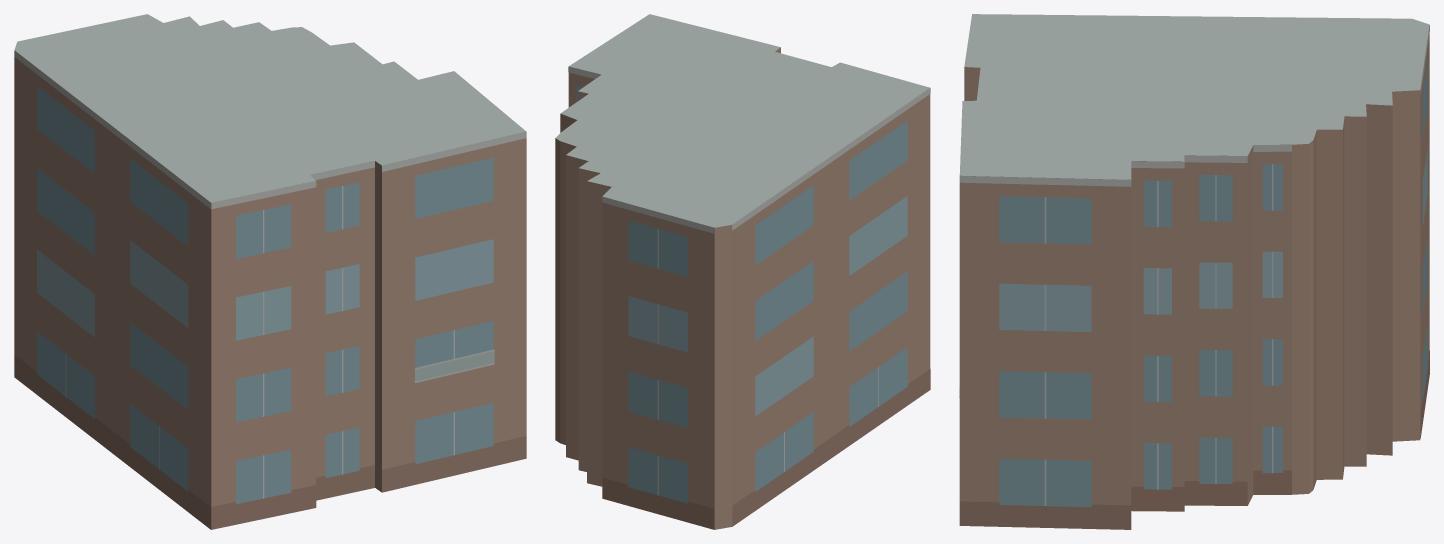
Rendered from survey-upis-32656655.glb.
The picture shows the model from 3 angles, left to right: view 1: azimuth 30°, elevation 25°; view 2: azimuth 150°, elevation 25°; view 3: azimuth 270°, elevation 25°; orthographic projection. The views are drawn at different scales.
Visible parts, largest first — view 1: survey-upis-32656655.tmp; view 2: survey-upis-32656655.tmp; view 3: survey-upis-32656655.tmp.
Boxes of the visible parts, x1,y1,x2,y2 form: survey-upis-32656655.tmp: (14,14,526,529); survey-upis-32656655.tmp: (555,14,930,529); survey-upis-32656655.tmp: (959,14,1429,529).
Bounding box in the file's own units: 12.4 × 12.2 × 14.87.
